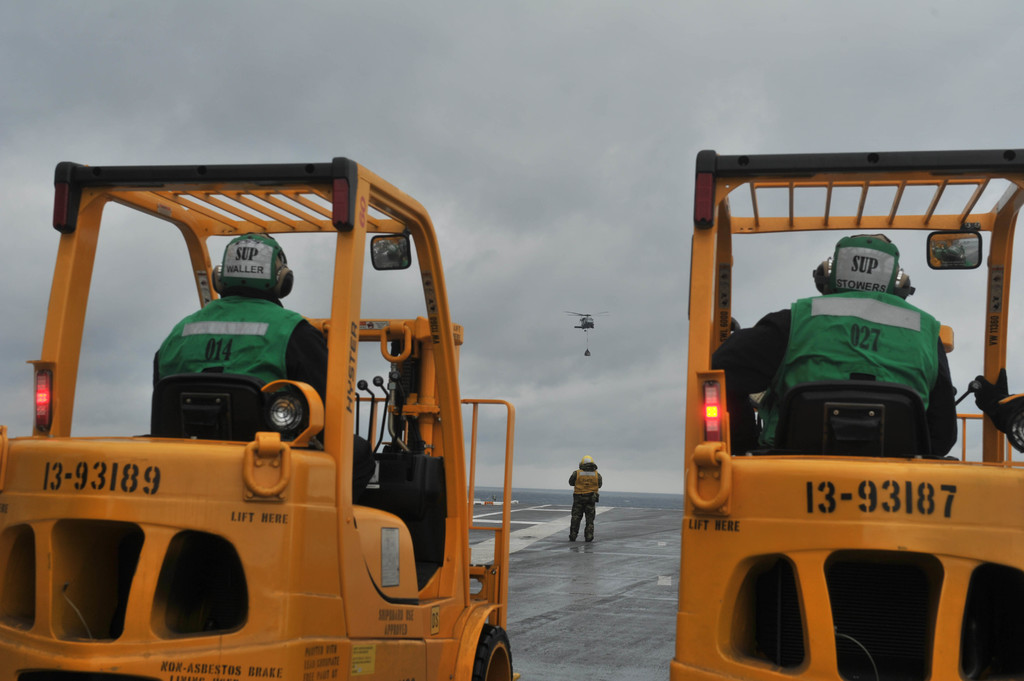Person: (151, 232, 376, 502), (711, 233, 958, 457)
